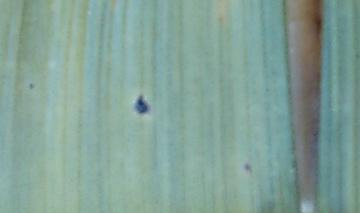tarspot: (134, 94, 149, 115), (244, 162, 253, 174), (28, 81, 34, 91)
